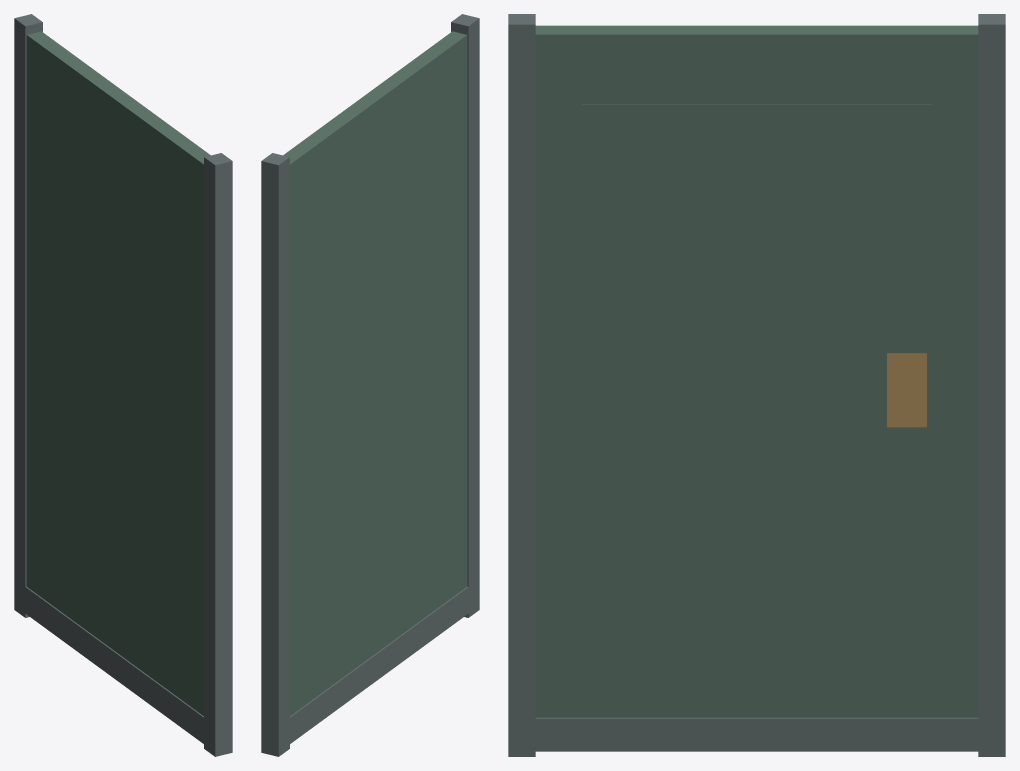
Rendered from LP_StaffToilet_DoorOpen02.fbx.
3 renders of one model, left to right at view 1: azimuth 30°, elevation 25°; view 2: azimuth 150°, elevation 25°; view 3: azimuth 270°, elevation 25°, orthographic. The views are drawn at different scales.
Parts seen in each view (by area): view 1: SageUpholstery, M_Museum_BrushedMetal; view 2: SageUpholstery, M_Museum_BrushedMetal; view 3: SageUpholstery, M_Museum_BrushedMetal, AgedBrass.
Boxes of the visible parts, x1,y1,x2,y2 form: SageUpholstery: [26, 31, 210, 715]; M_Museum_BrushedMetal: [14, 14, 232, 756]; SageUpholstery: [283, 31, 467, 715]; M_Museum_BrushedMetal: [261, 14, 479, 756]; SageUpholstery: [535, 25, 978, 717]; M_Museum_BrushedMetal: [508, 14, 1005, 756]; AgedBrass: [887, 353, 926, 427].
Size of the model in its own units: 6 by 195 by 120.
